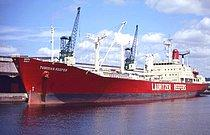Ship: (11, 5, 210, 112)
